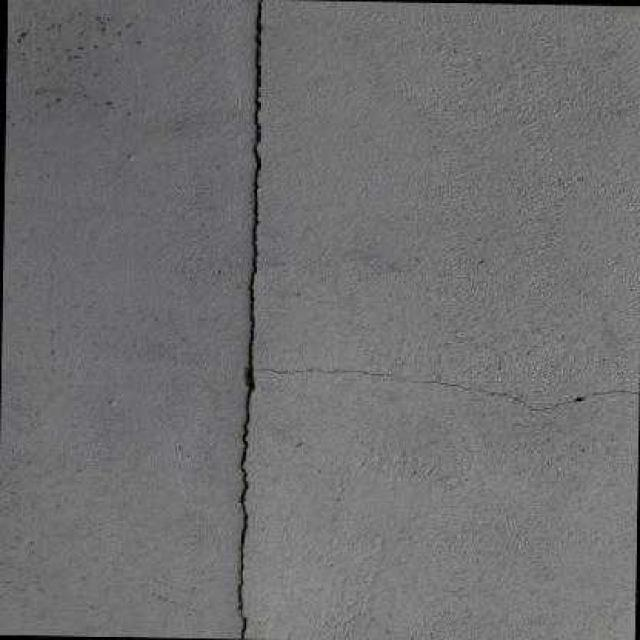D00: (235, 0, 266, 639), (258, 367, 639, 412)
